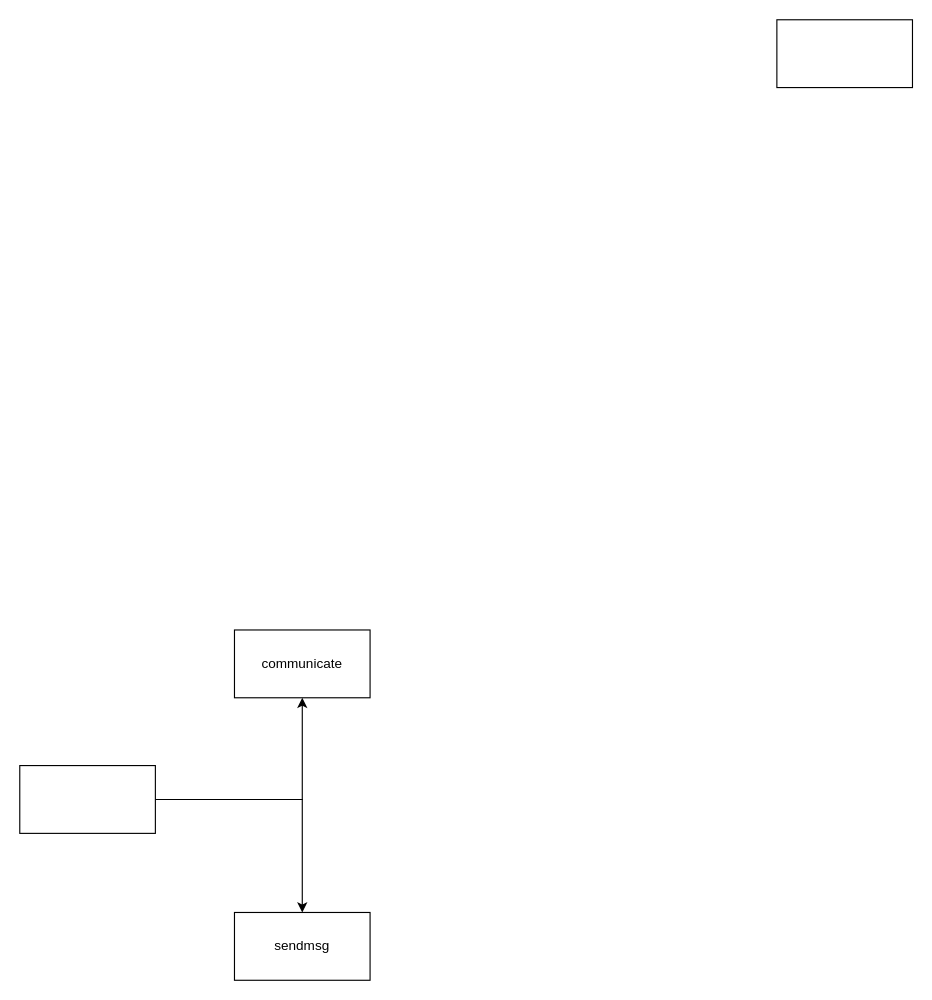
Image size: 932x1000. Some labels were removed from this diagram. Here are the shapes that lost their labels. From the top down, the centre of each, then its label:
At [844,53]: "camera".
At [87,798]: "RoboticArm".
